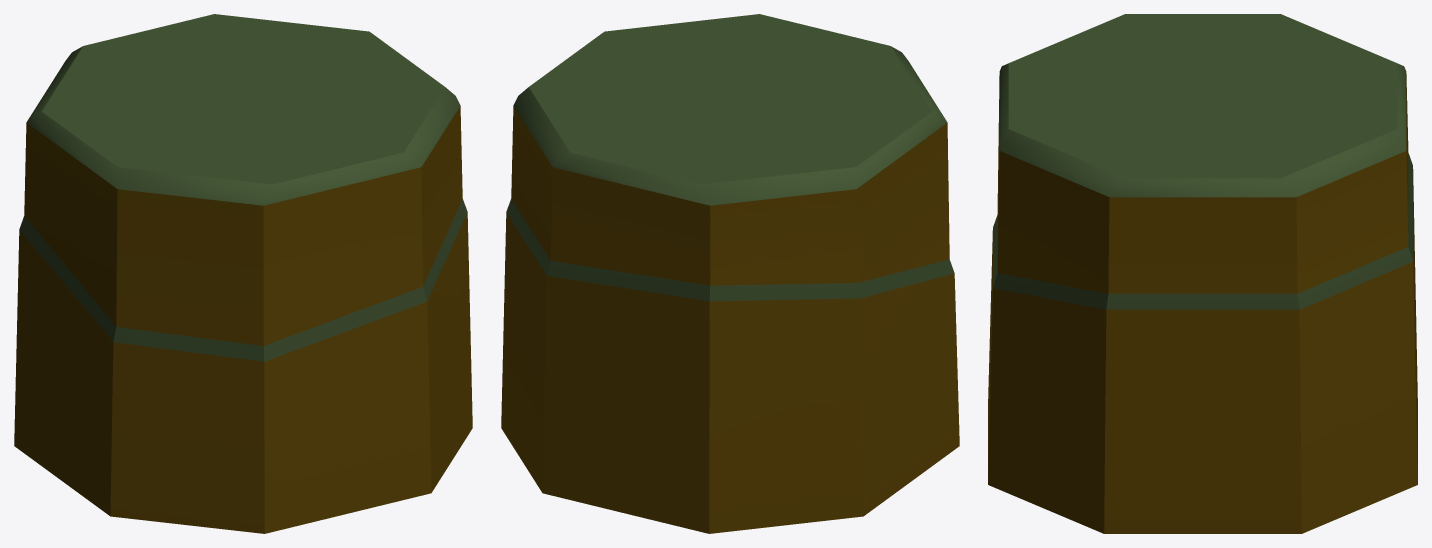
The model's file is envCliff_20x20b.fbx.
The picture shows the model from 3 angles, left to right: view 1: azimuth 30°, elevation 25°; view 2: azimuth 150°, elevation 25°; view 3: azimuth 270°, elevation 25°; orthographic projection. The views are drawn at different scales.
Parts seen in each view (by area): view 1: envCliff_20x20b; view 2: envCliff_20x20b; view 3: envCliff_20x20b.
Boxes of the visible parts, box(x1,y1,x2,y2) form: envCliff_20x20b: box(14, 14, 472, 533); envCliff_20x20b: box(501, 14, 959, 533); envCliff_20x20b: box(988, 14, 1417, 533).
Size of the model in its own units: 21.13 by 18.82 by 21.13.
